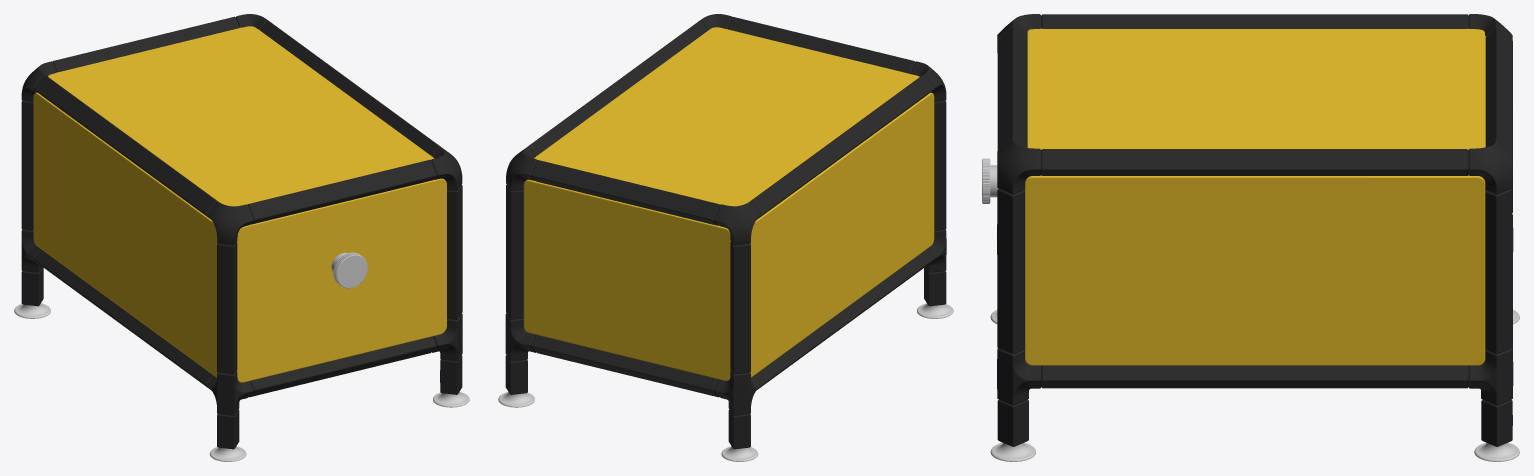
3 renders of one model, left to right at view 1: azimuth 30°, elevation 25°; view 2: azimuth 150°, elevation 25°; view 3: azimuth 270°, elevation 25°, orthographic. The views are drawn at different scales.
Parts seen in each view (by area): view 1: 229x374x154; view 2: 229x374x154; view 3: 229x374x154.
Part boxes in pixels (x1=…): 229x374x154: x1=14, y1=14, x2=469, y2=461; 229x374x154: x1=498, y1=14, x2=953, y2=461; 229x374x154: x1=982, y1=14, x2=1519, y2=461.
Size of the model in its own units: 0.3189 by 0.2933 by 0.4707.
